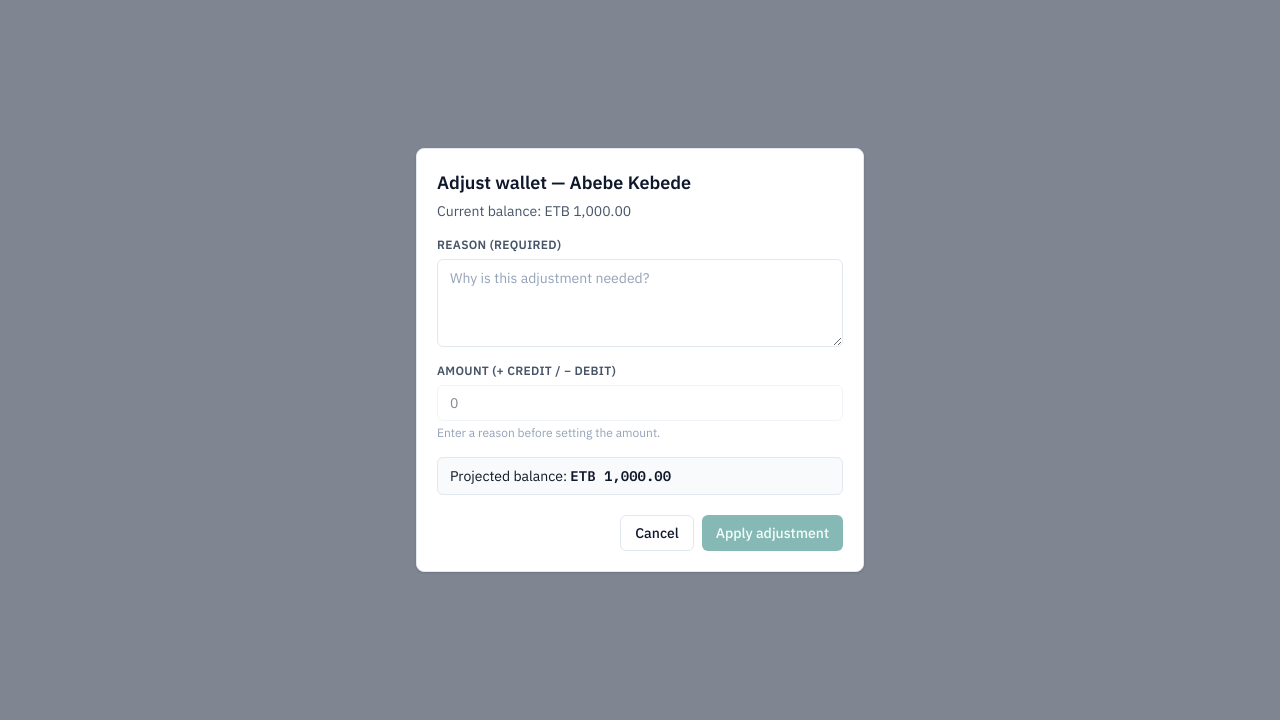
Test case: WalletAdjustmentModal › requires a non-empty reason before amount is enabled
This screenshot has width=1280, height=720.
Check: the number field labelled "Amount (+ credit / − debit)" is disabled, box [437,385,843,421]
Type "Support goodwill credit" into the text box labelled "Reason (required)".
click(640, 303); type("Support goodwill credit")  # box [437,259,843,347]
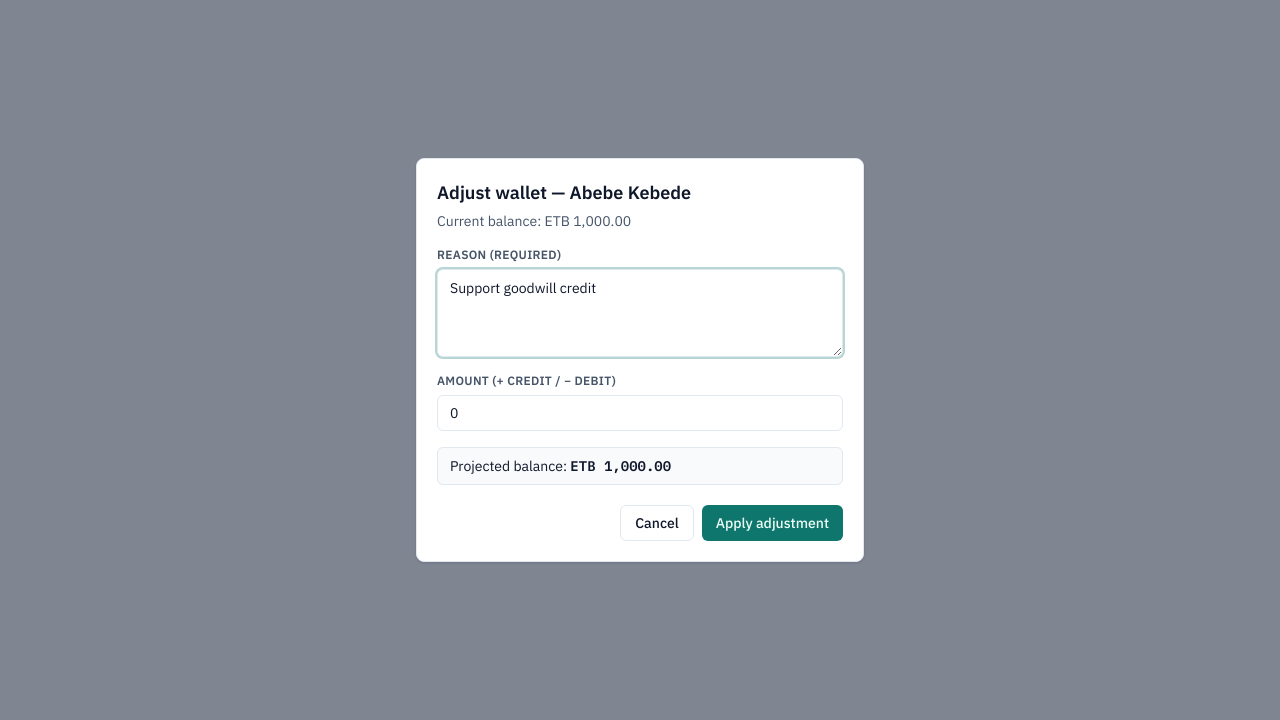
Check: the number field labelled "Amount (+ credit / − debit)" is enabled, box [437,395,843,431]
